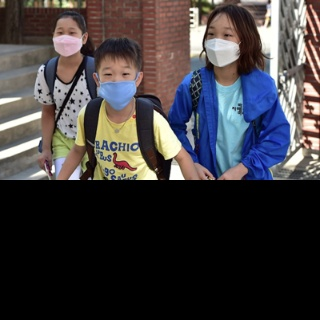with_mask: (97, 64, 138, 110), (205, 24, 240, 68), (52, 25, 83, 57)
